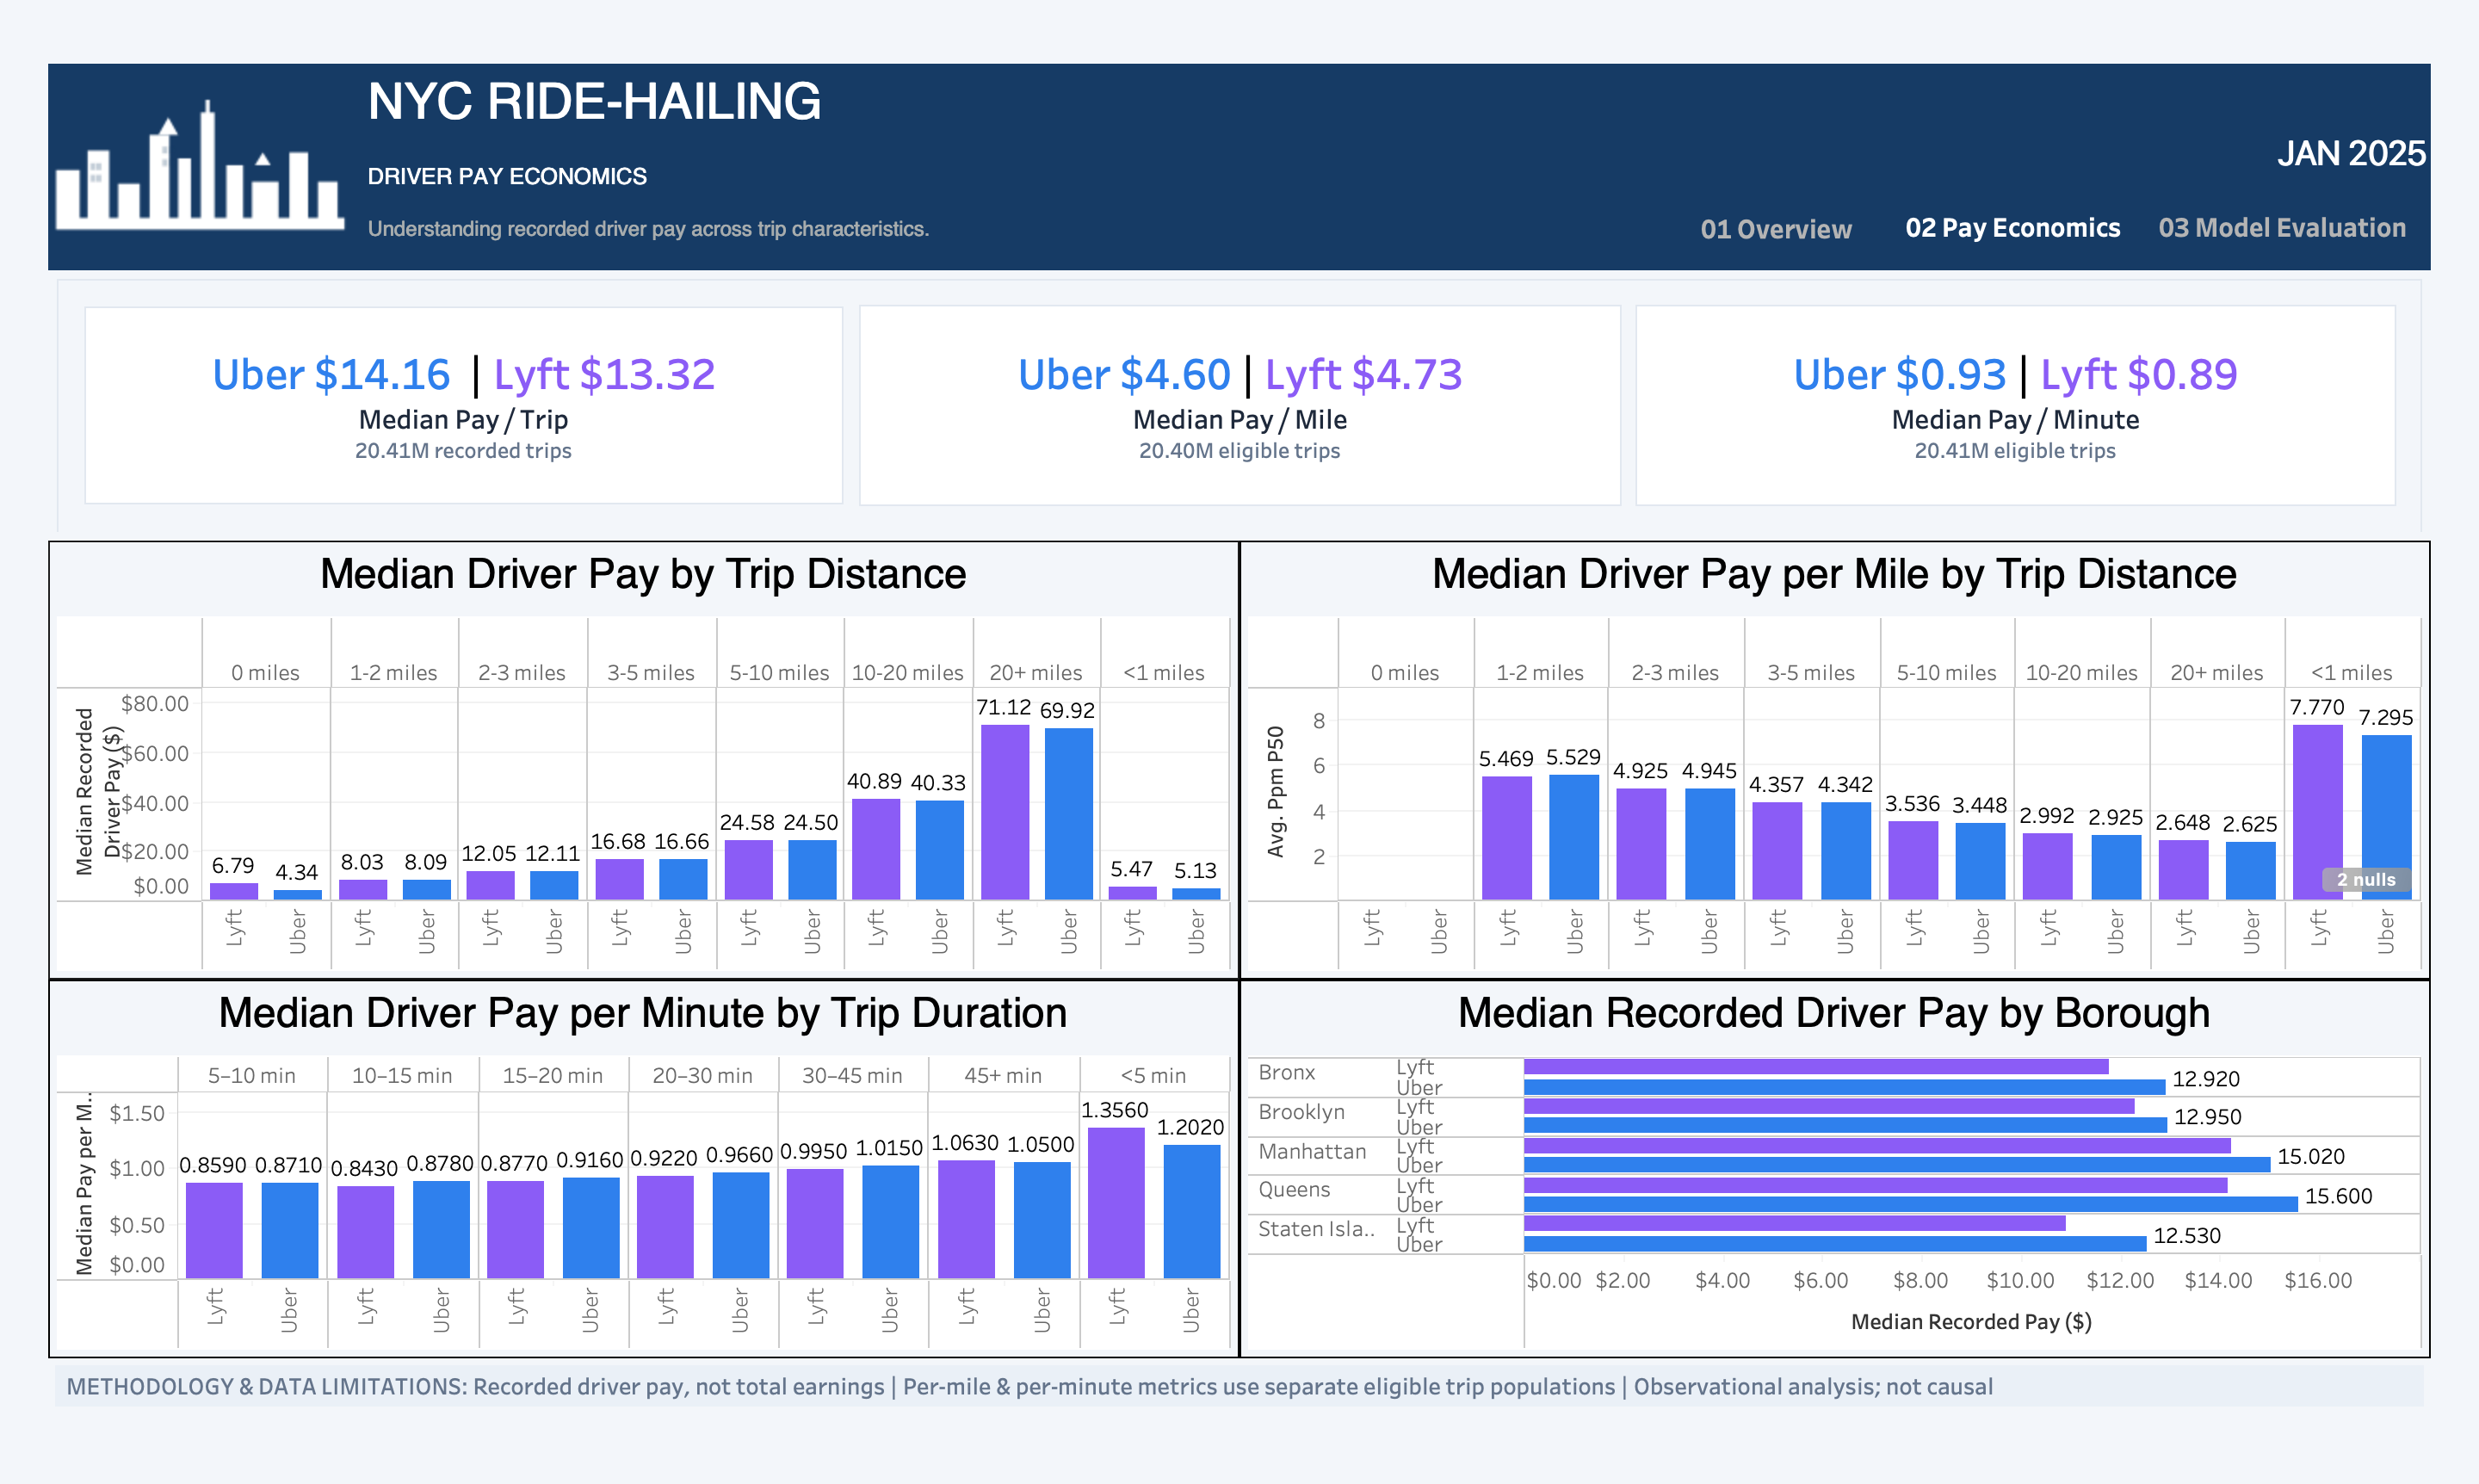

Layout of this report page (visuals, bound fields, positions):
{"tool":"tableau","page":{"name":"02_Driver Pay Economics","canvas":[1400,800],"ordinal":1},"visuals":[{"type":"image","param":"Image/nyc_skyline_white.svg","box":[8,8,183,119.5]},{"type":"text","box":[191,8,634.5,119.5]},{"type":"text","box":[825.5,8,566.5,119.5]},{"type":"dashboard-object","box":[1068,76,164,52]},{"type":"dashboard-object","box":[930,77,164,52]},{"type":"dashboard-object","box":[1214,77,184,50]},{"type":"text","box":[24,144,451,125]},{"type":"text","box":[475,144,451,125]},{"type":"text","box":[926,144,450,125]},{"type":"worksheet","title":"05_Median Pay by Distance","mark":"Bar","rows":["pay_p50"],"cols":["distance_band","company"],"box":[9,286.2,690,253.1]},{"type":"worksheet","title":"06_Pay per Mile by Distance","mark":"Bar","rows":["ppm_p50"],"cols":["distance_band","company"],"box":[701,286.2,690,253.1]},{"type":"worksheet","title":"07_Pay per Minute by Duration","mark":"Automatic","rows":["ppmin_p50"],"cols":["duration_band","company"],"box":[9,541.3,690,217.7]},{"type":"worksheet","title":"08_Median Pay by Borough","mark":"Bar","rows":["pu_borough","company"],"cols":["pay_p50"],"box":[701,541.3,690,217.7]},{"type":"text","box":[8,760,1384,32]}]}

Visuals, with their boxes on the page's 1400x800 design canvas (x1, y1, x2, y2). These are canvas units, not pixel positions in the 2479x1484 screenshot, which may show the page scaled, cropped or inside an application window:
image: bbox=[8, 8, 191, 128]
text: bbox=[191, 8, 826, 128]
text: bbox=[826, 8, 1392, 128]
dashboard-object: bbox=[1068, 76, 1232, 128]
dashboard-object: bbox=[930, 77, 1094, 129]
dashboard-object: bbox=[1214, 77, 1398, 127]
text: bbox=[24, 144, 475, 269]
text: bbox=[475, 144, 926, 269]
text: bbox=[926, 144, 1376, 269]
"05_Median Pay by Distance" worksheet (Bar marks): bbox=[9, 286, 699, 539]
"06_Pay per Mile by Distance" worksheet (Bar marks): bbox=[701, 286, 1391, 539]
"07_Pay per Minute by Duration" worksheet: bbox=[9, 541, 699, 759]
"08_Median Pay by Borough" worksheet (Bar marks): bbox=[701, 541, 1391, 759]
text: bbox=[8, 760, 1392, 792]
